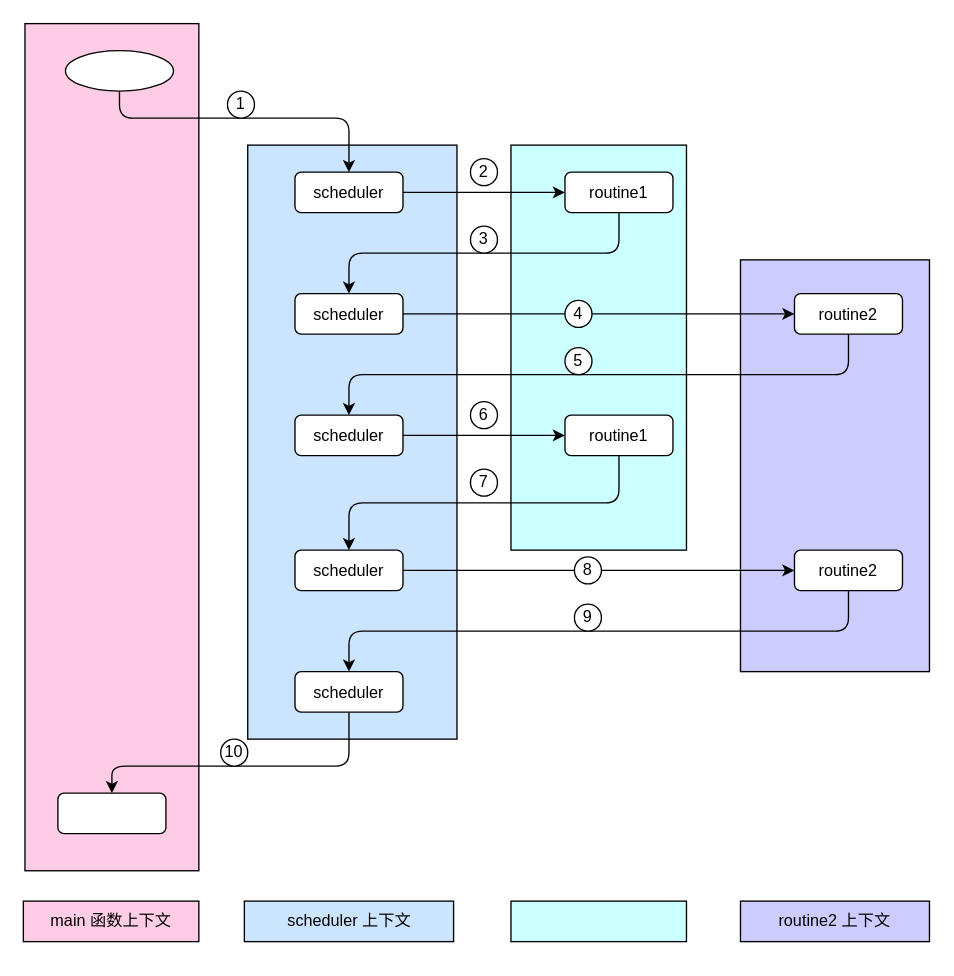
The diagram is 954 pixels wide and 976 high, and some of its shapes have lost their labels. The box of each missing label's shape, as (x1, y1, x2, y2) in pixels:
exit: (57, 792, 166, 834)
main: (64, 49, 173, 91)
routine1 上下文: (510, 900, 686, 942)
